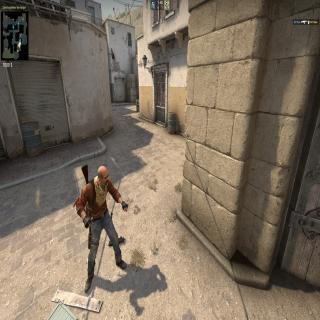T-Head: (97, 164, 109, 189)
